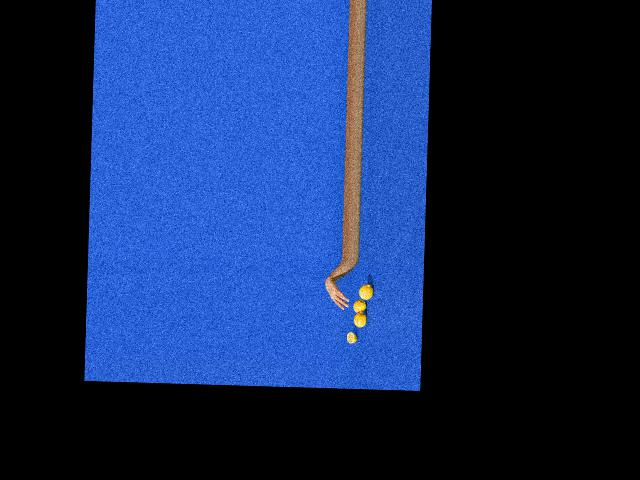lemon: (353, 311, 365, 329)
